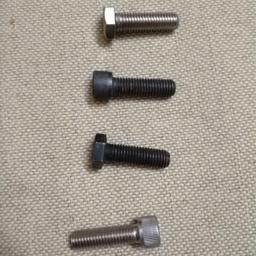screwtype1black: (91, 67, 177, 103)
screwtype1silver: (70, 211, 163, 252)
screwtype2black: (92, 132, 172, 176)
screwtype2silver: (100, 6, 181, 40)
